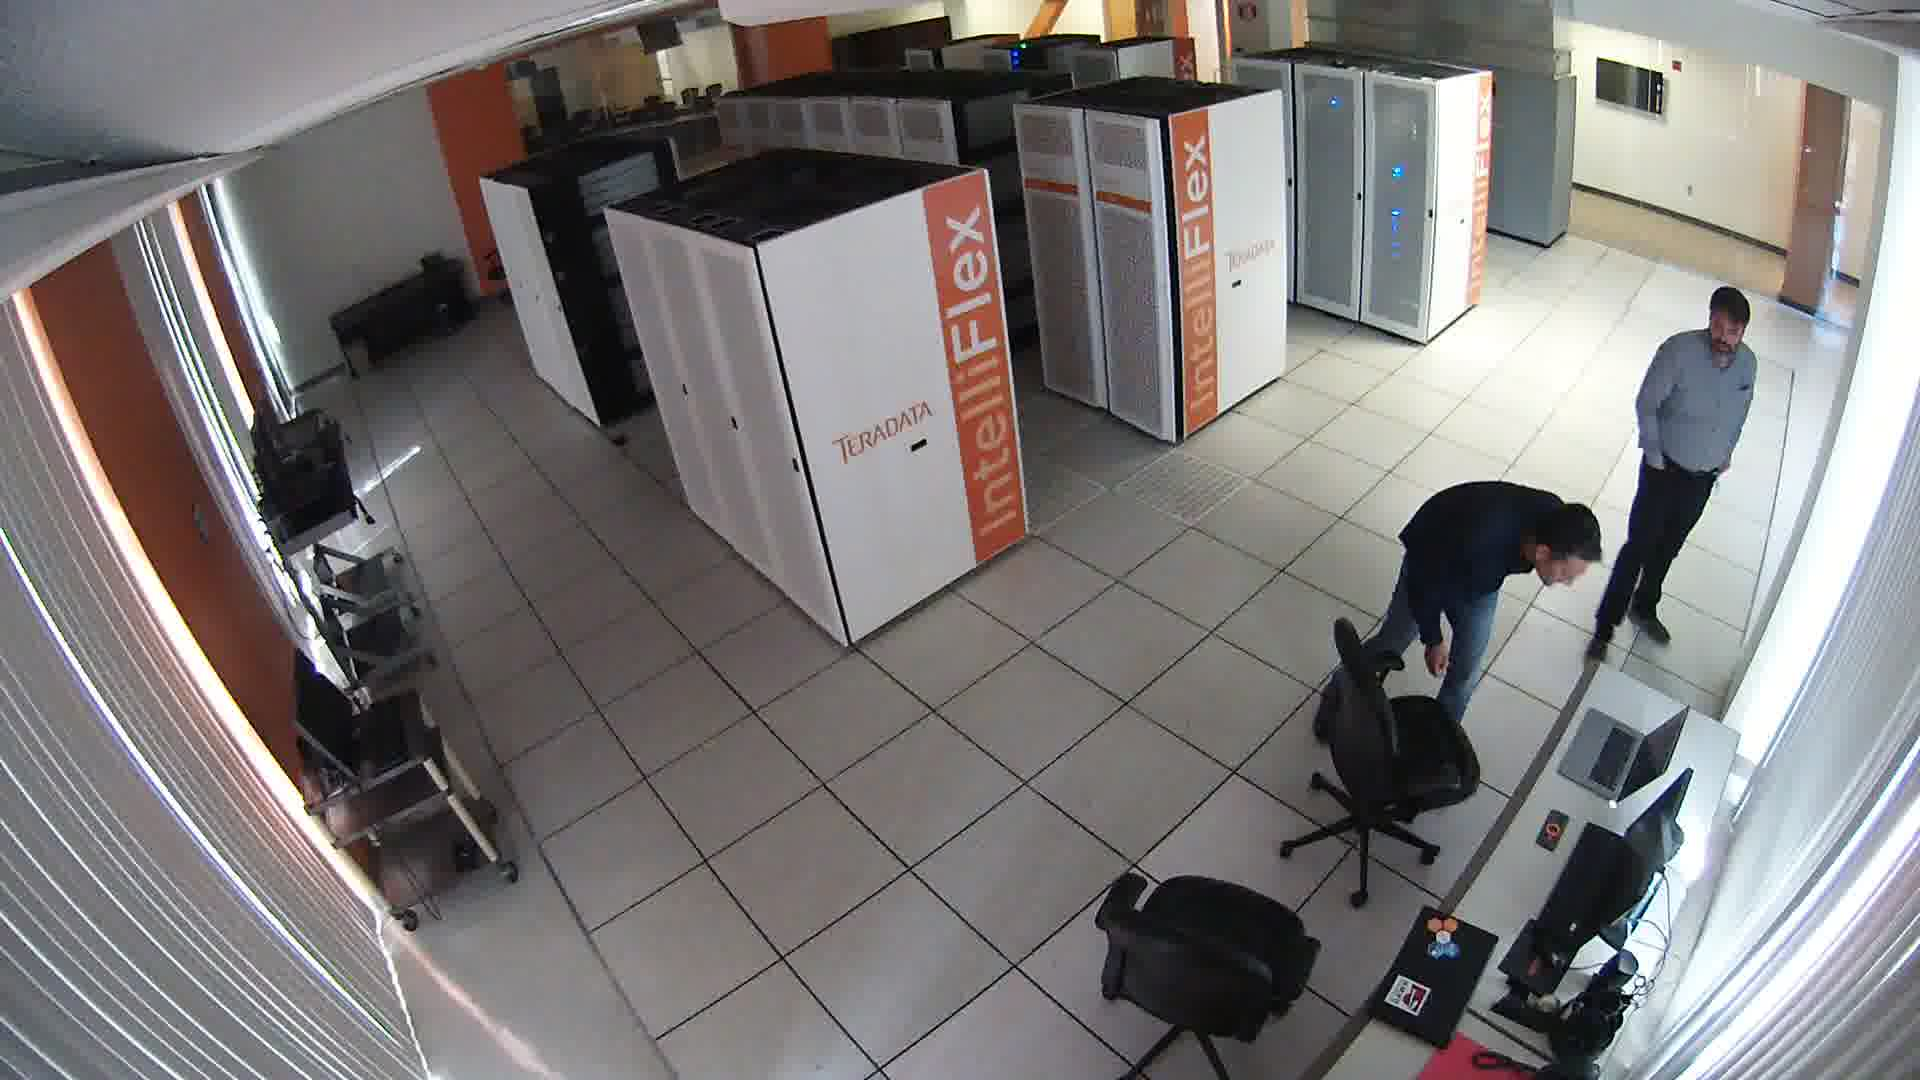person: (1317, 421, 1608, 767), (1597, 289, 1802, 697)
